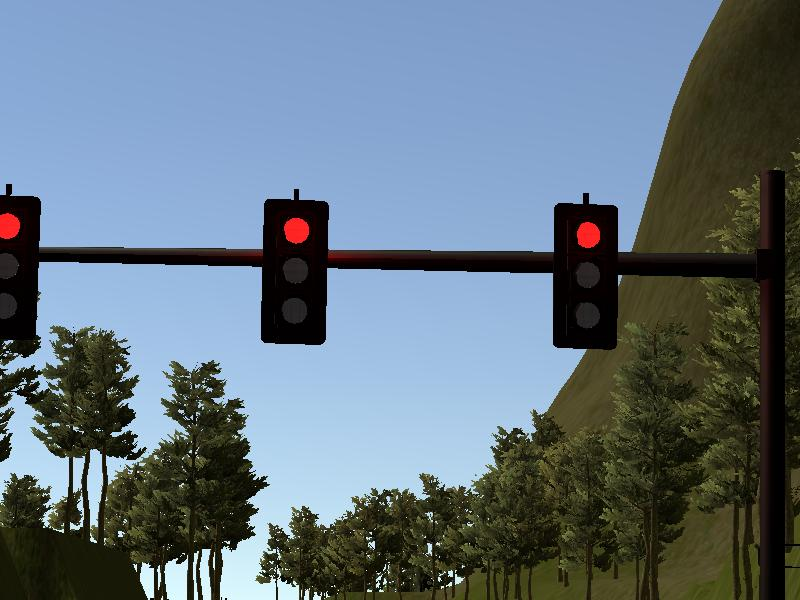red: (552, 201, 620, 350), (261, 196, 327, 346), (1, 194, 41, 341)
